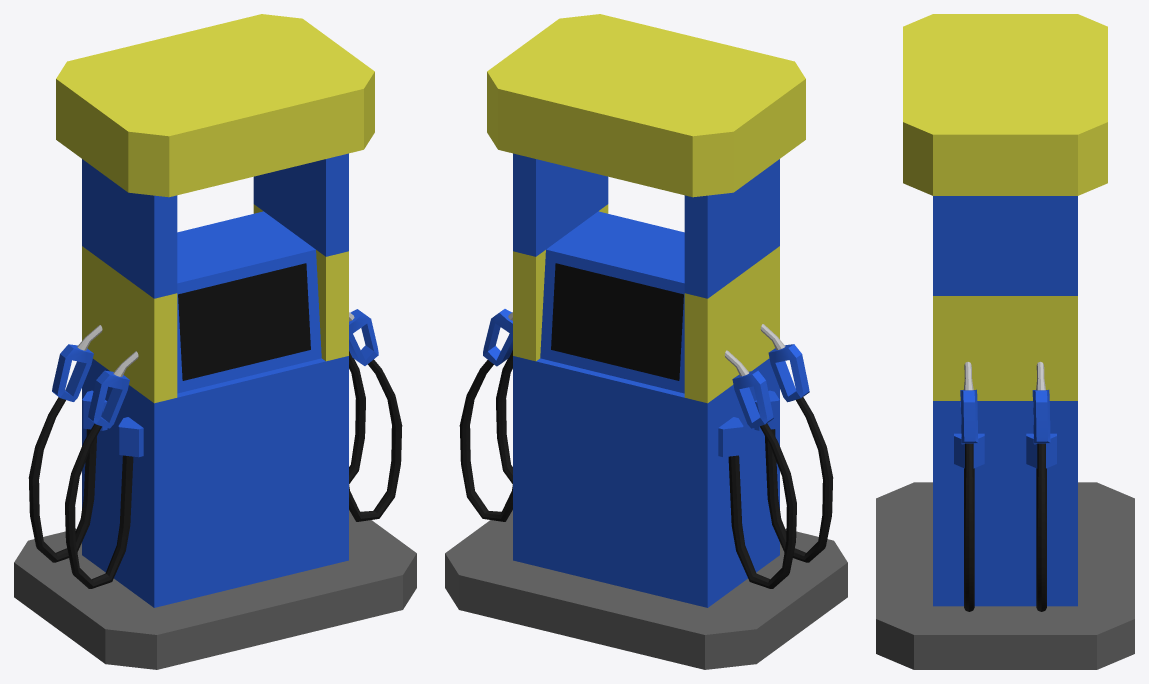
Rendered from oil.pump.fbx.
The picture shows the model from 3 angles, left to right: view 1: azimuth 30°, elevation 25°; view 2: azimuth 150°, elevation 25°; view 3: azimuth 270°, elevation 25°; orthographic projection.
Visible parts, largest first — view 1: Cylinder; view 2: Cylinder; view 3: Cylinder.
Boxes of the visible parts, x1,y1,x2,y2 form: Cylinder: [14, 14, 416, 669]; Cylinder: [445, 14, 847, 669]; Cylinder: [876, 14, 1134, 669].
Bounding box in the file's own units: 113 × 166 × 74.85.
